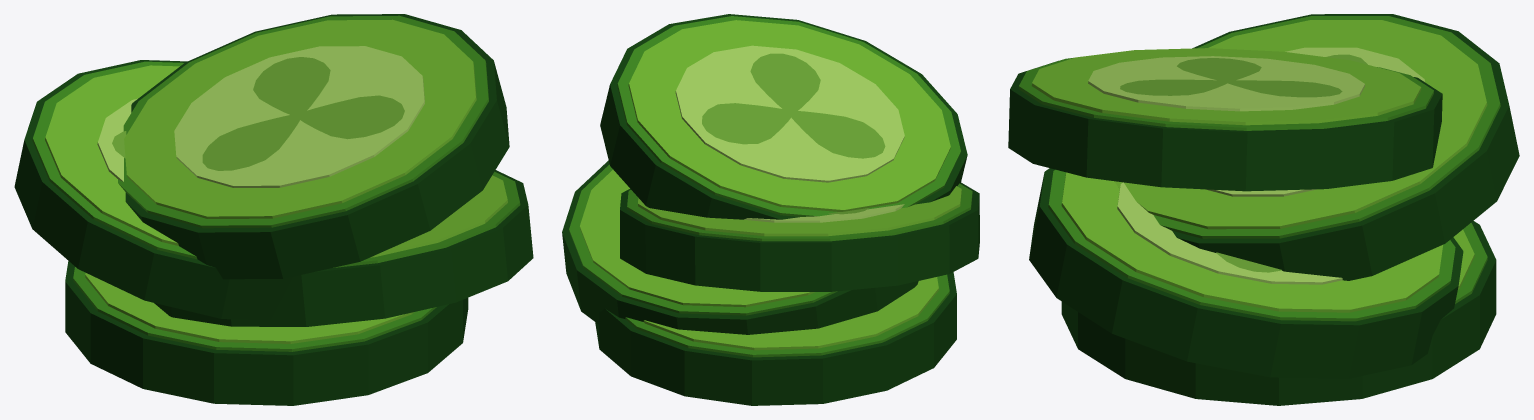
The model's file is cucumber_slice_stack.obj.
3 renders of one model, left to right at view 1: azimuth 30°, elevation 25°; view 2: azimuth 150°, elevation 25°; view 3: azimuth 270°, elevation 25°, orthographic. The views are drawn at different scales.
Parts seen in each view (by area): view 1: Slice_3_Flesh, Slice_Skin, Slice_3_Skin, Slice_3_Center, Slice_1_Skin, Slice_2_Skin, Slice_2_Flesh, Slice_3_Ring, Slice_Flesh, Slice_Ring, Slice_2_Ring, Slice_3_Seed2 (+5 smaller); view 2: Slice_3_Flesh, Slice_2_Skin, Slice_Skin, Slice_3_Center, Slice_1_Skin, Slice_3_Skin, Slice_1_Flesh, Slice_3_Ring, Slice_Flesh, Slice_2_Flesh, Slice_1_Ring, Slice_Ring (+5 smaller); view 3: Slice_3_Skin, Slice_1_Skin, Slice_2_Flesh, Slice_2_Skin, Slice_Skin, Slice_1_Flesh, Slice_3_Flesh, Slice_3_Center, Slice_2_Ring, Slice_1_Ring, Slice_1_Center, Slice_3_Ring (+7 smaller).
Boxes of the visible parts, bbox=[...] form: Slice_3_Flesh: bbox=[124, 19, 476, 218]; Slice_Skin: bbox=[65, 261, 468, 405]; Slice_3_Skin: bbox=[125, 14, 509, 279]; Slice_3_Center: bbox=[174, 46, 424, 187]; Slice_1_Skin: bbox=[154, 170, 533, 326]; Slice_2_Skin: bbox=[14, 60, 293, 320]; Slice_2_Flesh: bbox=[45, 65, 179, 245]; Slice_3_Ring: bbox=[118, 15, 488, 228]; Slice_Flesh: bbox=[85, 273, 414, 343]; Slice_Ring: bbox=[73, 267, 436, 351]; Slice_2_Ring: bbox=[32, 61, 197, 259]; Slice_3_Seed2: bbox=[253, 57, 330, 116]; Slice_3_Flesh: bbox=[628, 20, 950, 211]; Slice_2_Skin: bbox=[620, 182, 979, 291]; Slice_Skin: bbox=[595, 272, 956, 405]; Slice_3_Center: bbox=[675, 45, 904, 182]; Slice_1_Skin: bbox=[562, 160, 918, 334]; Slice_3_Skin: bbox=[600, 14, 967, 219]; Slice_1_Flesh: bbox=[579, 169, 814, 307]; Slice_3_Ring: bbox=[617, 16, 960, 216]; Slice_Flesh: bbox=[643, 277, 938, 350]; Slice_2_Flesh: bbox=[638, 186, 961, 236]; Slice_1_Ring: bbox=[569, 164, 837, 315]; Slice_Ring: bbox=[625, 274, 949, 357]; Slice_3_Skin: bbox=[1008, 60, 1442, 191]; Slice_1_Skin: bbox=[1029, 168, 1463, 378]; Slice_2_Flesh: bbox=[1114, 20, 1487, 229]; Slice_2_Skin: bbox=[1172, 14, 1519, 280]; Slice_Skin: bbox=[1061, 221, 1496, 405]; Slice_1_Flesh: bbox=[1061, 172, 1442, 312]; Slice_3_Flesh: bbox=[1031, 48, 1421, 125]; Slice_3_Center: bbox=[1088, 56, 1364, 111]; Slice_2_Ring: bbox=[1153, 16, 1500, 238]; Slice_1_Ring: bbox=[1048, 169, 1455, 321]; Slice_1_Center: bbox=[1117, 182, 1342, 284]; Slice_3_Ring: bbox=[1018, 57, 1433, 130].
Bounding box in the file's own units: 4.96 × 2.81 × 4.7.
